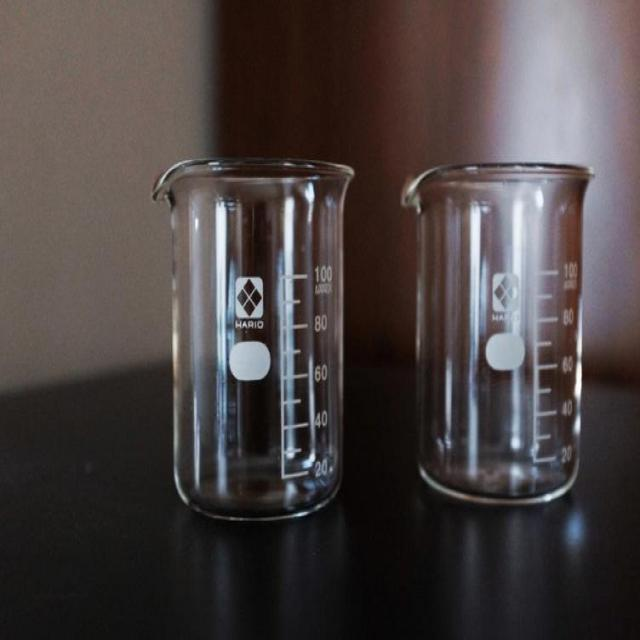Beaker: (143, 138, 353, 522), (403, 141, 598, 507)
